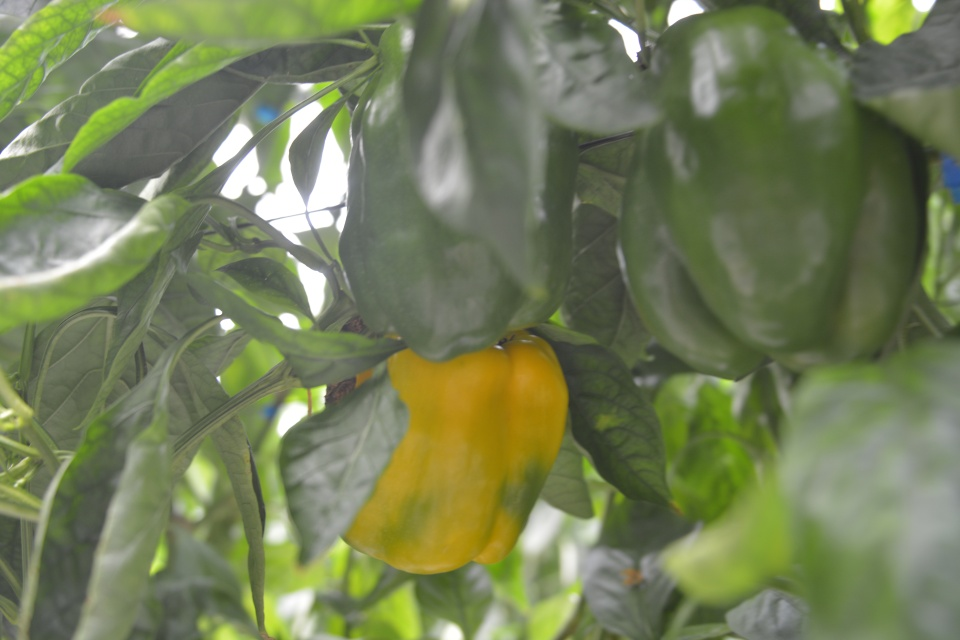fruit: (618, 4, 931, 384), (336, 15, 582, 365), (324, 321, 571, 577), (776, 333, 960, 639)
